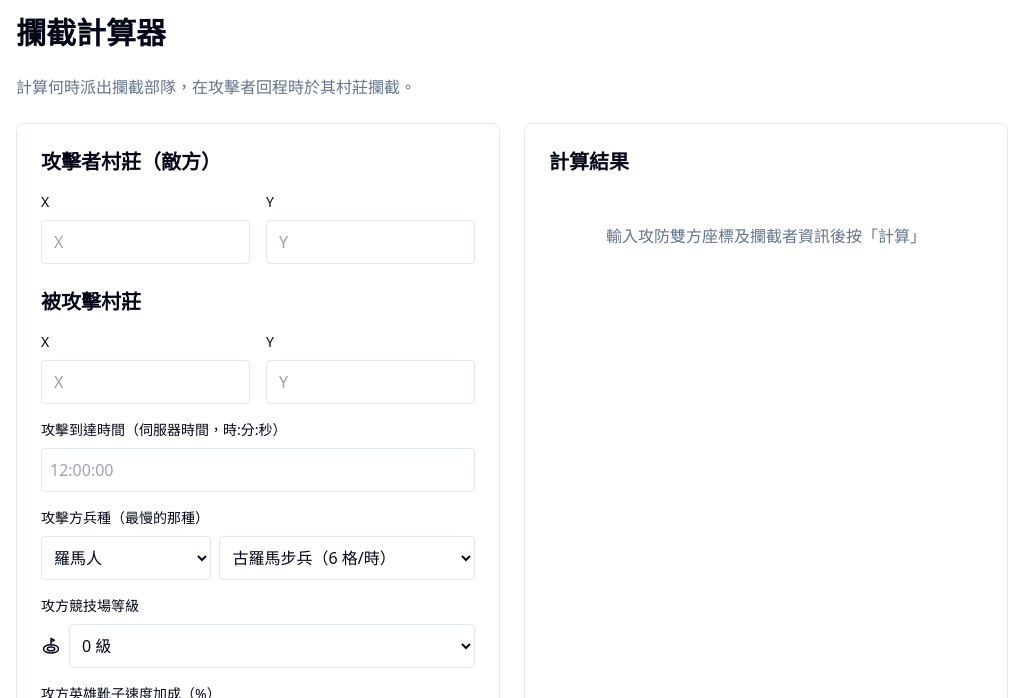
攔截計算 › bad time → error under the field, not sent
Type "1" into the field with test id "attacker-x" at (146, 242), box [41,220,250,264]
Type "1" into the 1st field with placeholder "Y" at (370, 242), box [266,220,475,264]
Type "2" into the 2nd field with placeholder "X" at (146, 382), box [41,360,250,404]
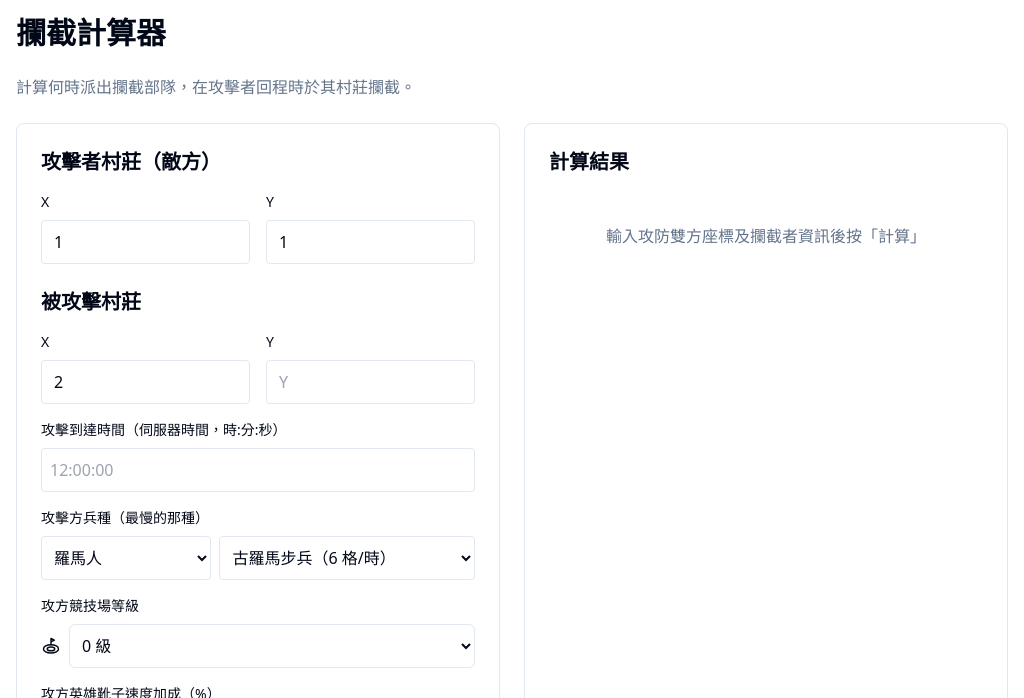
Type "2" into the 2nd field with placeholder "Y" at (370, 382), box [266,360,475,404]
(page scrolled)
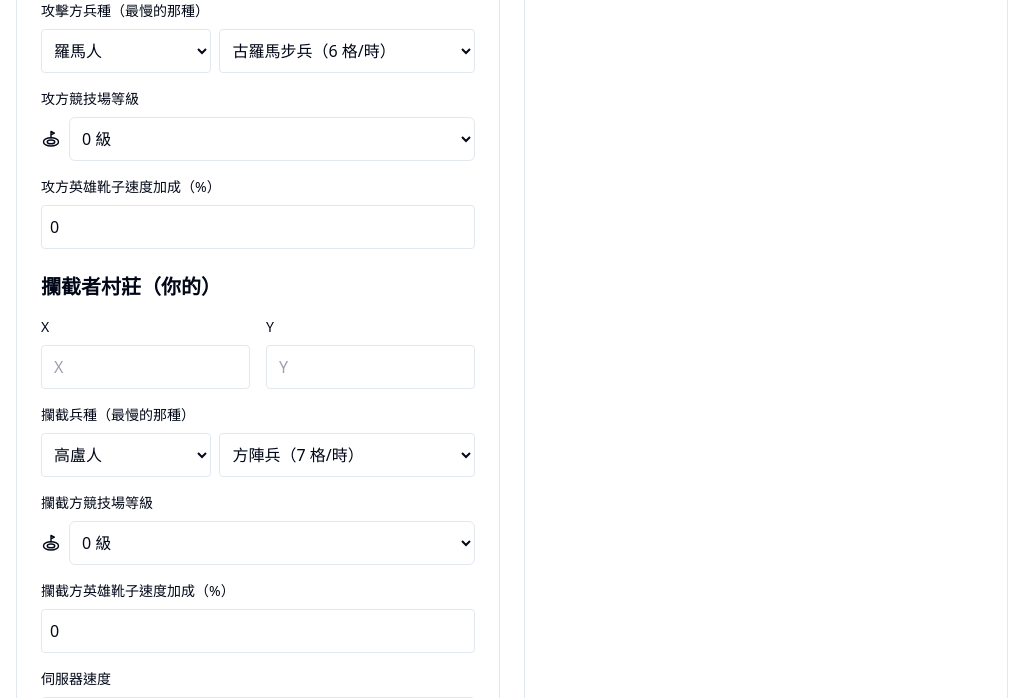
Type "3" into the field with test id "catcher-x" at (146, 367), box [41,345,250,389]
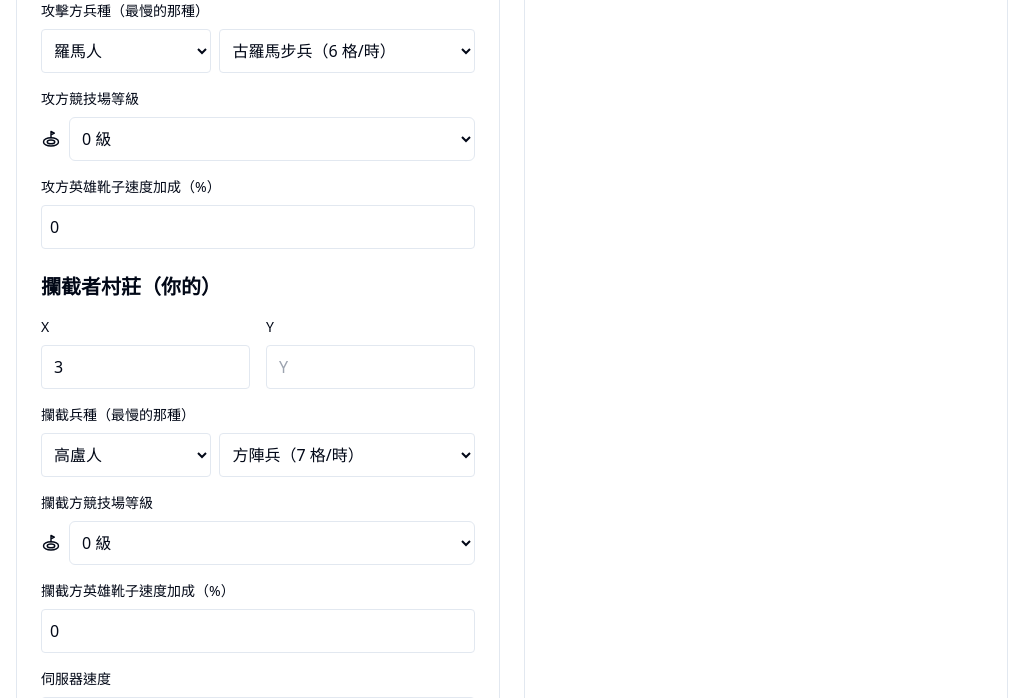
Type "3" into the field with test id "catcher-y" at (370, 367), box [266,345,475,389]
(page scrolled)
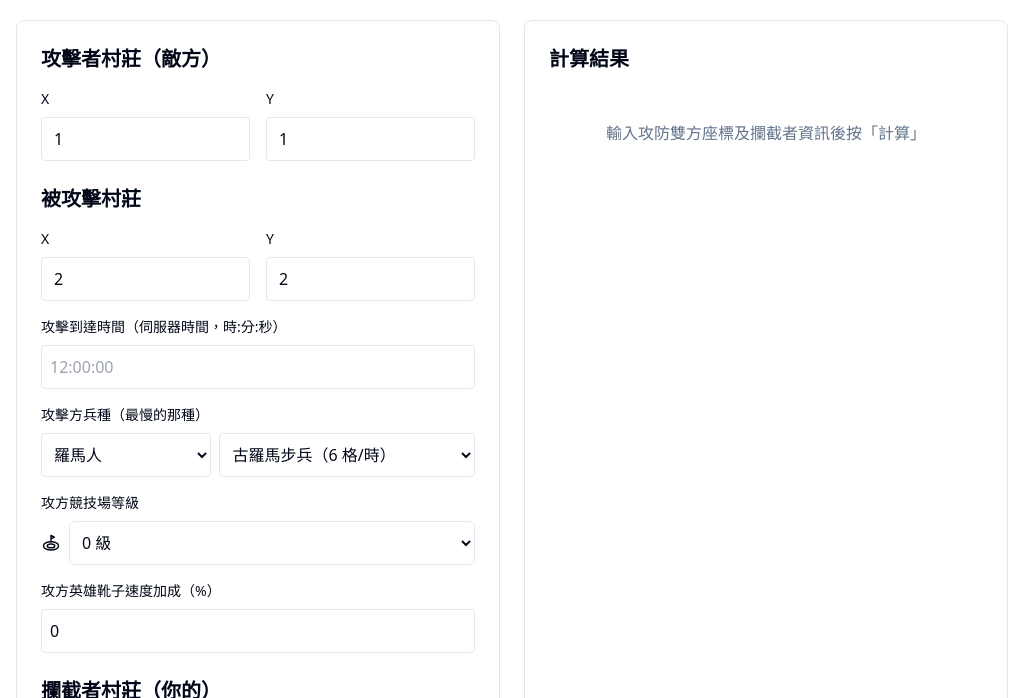
Type "25:99" into the field with test id "intercept-arrival" at (258, 367), box [41,345,475,389]
(page scrolled)
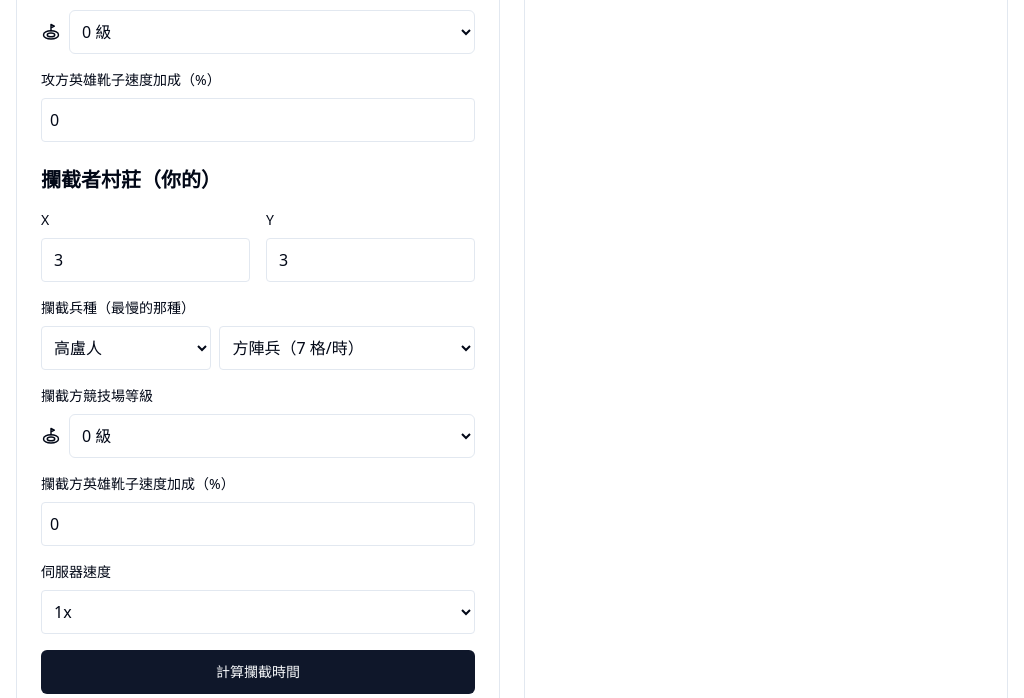
Click the button "計算攔截時間" at (258, 672), box [41,650,475,694]
(page scrolled)
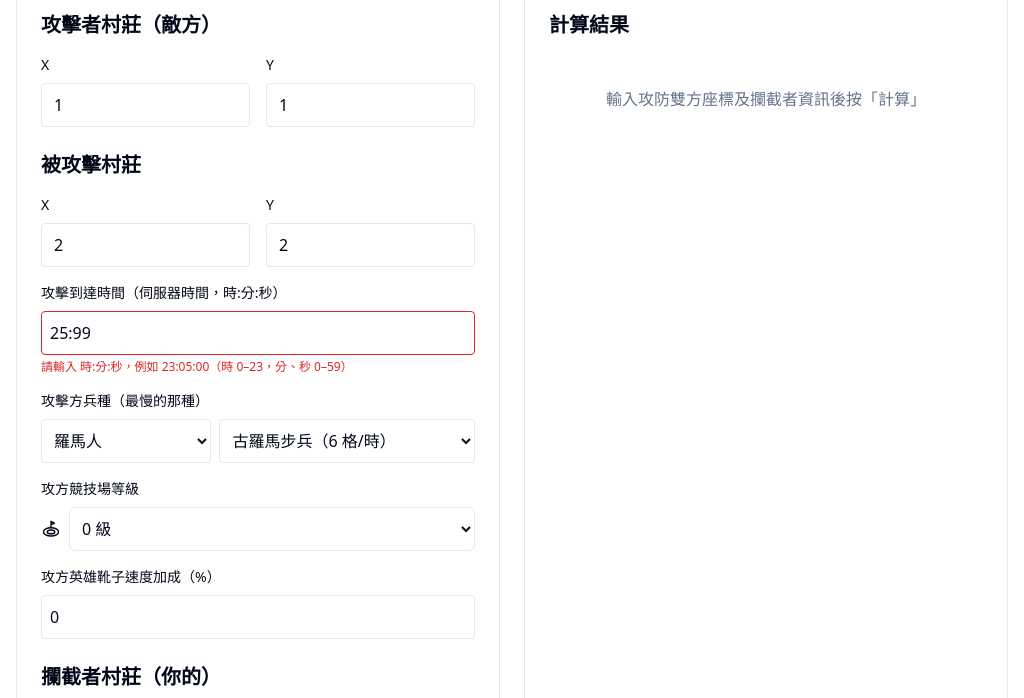
Expected: the message with test id "intercept-arrival-error" shows "時:分:秒", [41,358,353,375]
